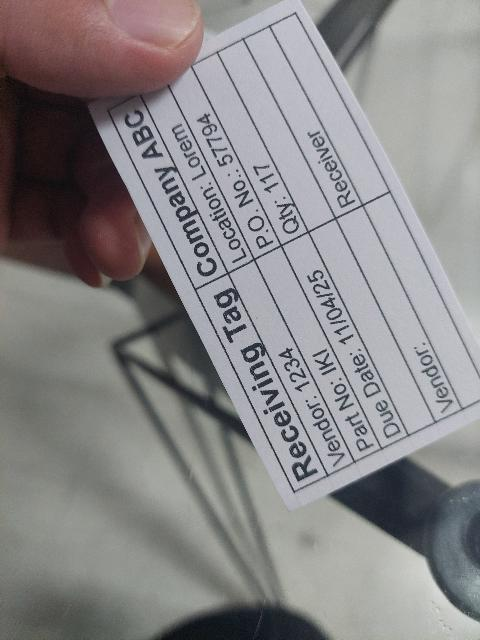PO no: (173, 82, 281, 261)
part no: (254, 246, 383, 462)
qty: (198, 71, 309, 244)
tags: (88, 0, 480, 515)
